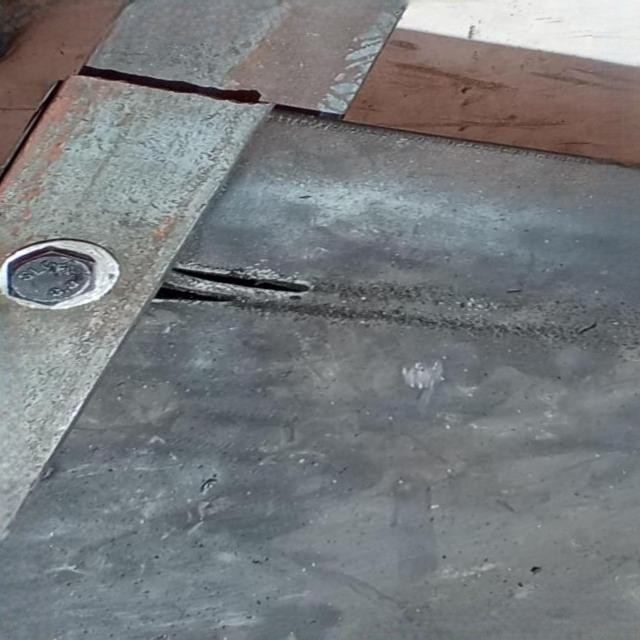Puncture: (522, 565, 547, 577), (518, 586, 538, 600), (516, 580, 524, 588)
Tear: (168, 264, 316, 299), (148, 279, 244, 314), (191, 471, 224, 496), (568, 322, 604, 340)
